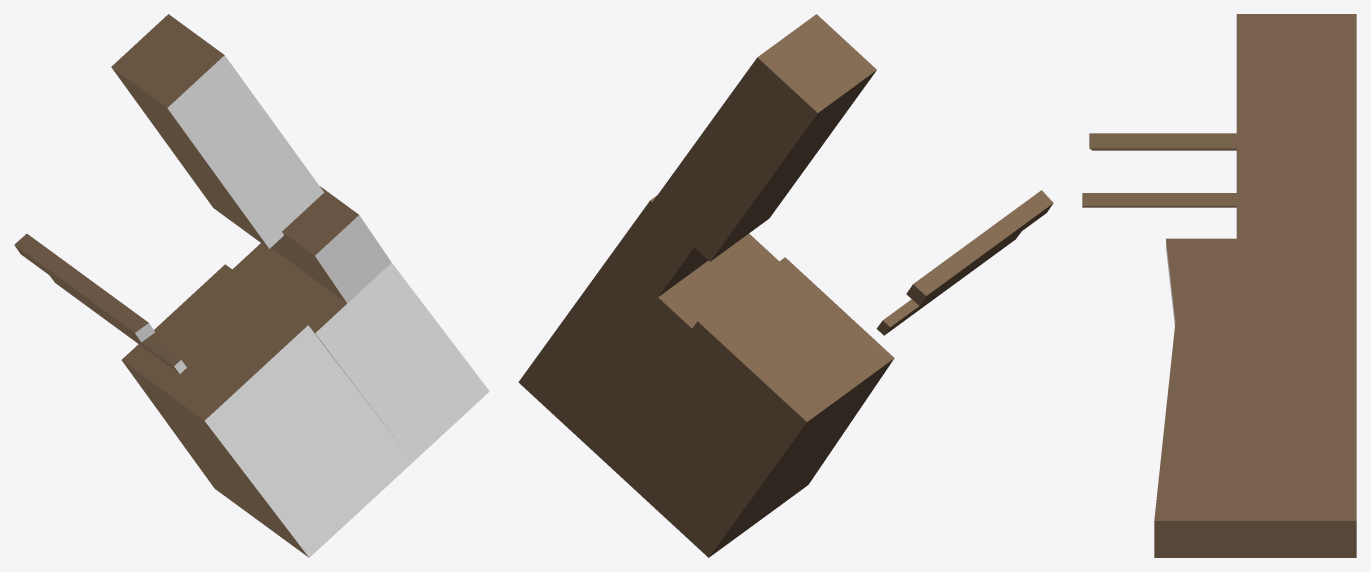
3 views of the same model, side by side, from view 1: azimuth 30°, elevation 25°; view 2: azimuth 150°, elevation 25°; view 3: azimuth 270°, elevation 25° (orthographic). The views are drawn at different scales.
Visible parts, largest first — view 1: City_2316949; view 2: City_2316949; view 3: City_2316949.
Boxes of the visible parts, x1,y1,x2,y2 form: City_2316949: [14, 14, 489, 557]; City_2316949: [518, 14, 1053, 557]; City_2316949: [1082, 14, 1356, 557].
Size of the model in its own units: 2616 by 3164 by 1514.
